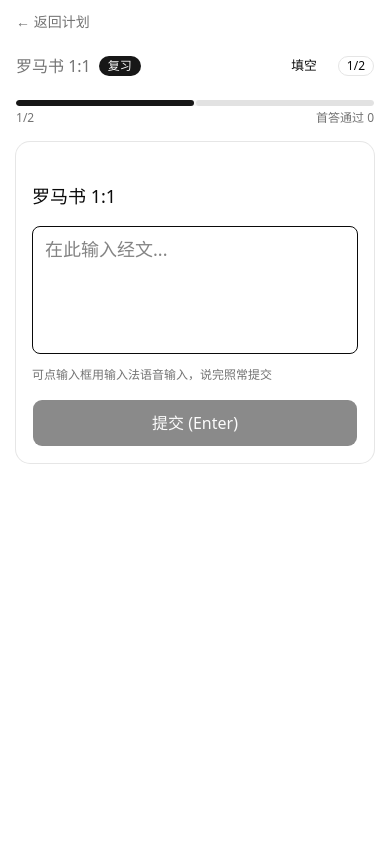
it: LearnClient 跨节状态隔离（复现：上一节的输入/比对残留到下一节） › 未通过：顶部只显示「重新练习」，点击后原地重背同一节
Type "第一节经" into the text box with placeholder "在此输入经文..." at (195, 290), box [32,226,358,354]
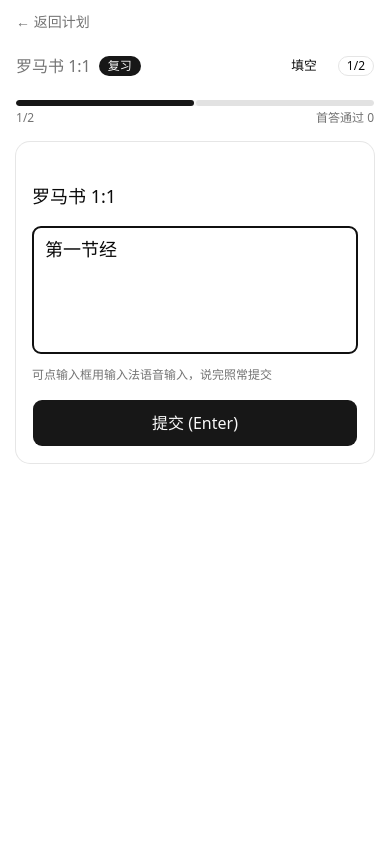
Press Enter
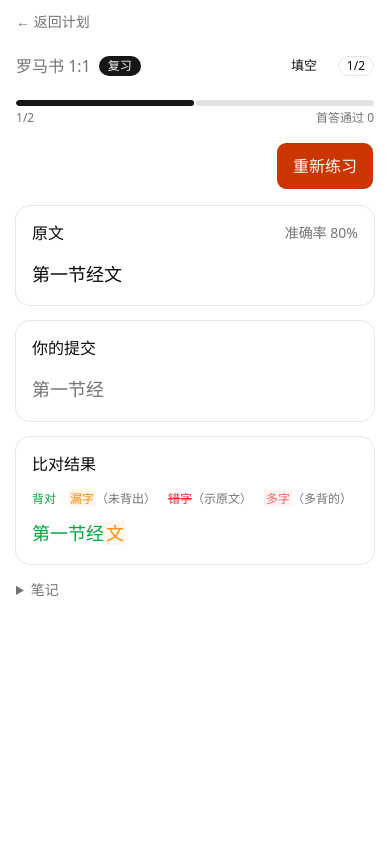
Expected: the button "下一节" is not shown
Expected: the text "准确率 80%" is shown, [285,223,358,243]
Expected: the button with aria-label "未通过，重新练习" is shown
// 重新练习 → 还是同一节，输入框清空
Click the button "重新练习" at (325, 166), box [276,142,374,190]
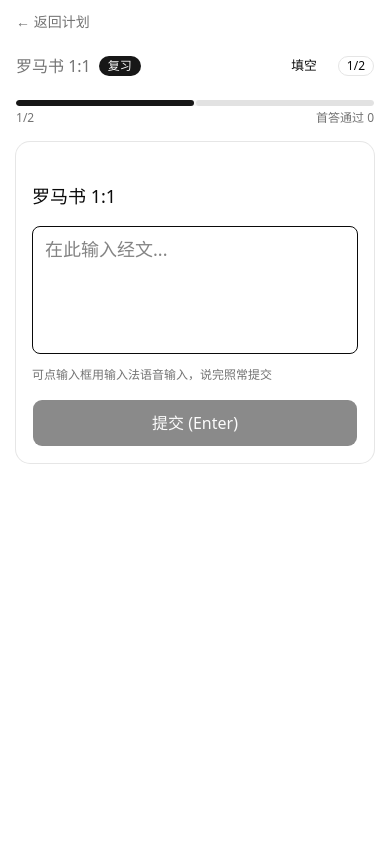
Expected: the heading "罗马书 1:1" is shown, [16,54,91,78]
Expected: the text box with placeholder "在此输入经文..." is empty
// 这次背对 → 通过，首答仍算未通过
Type "第一节经文" into the text box with placeholder "在此输入经文..." at (195, 290), box [32,226,358,354]
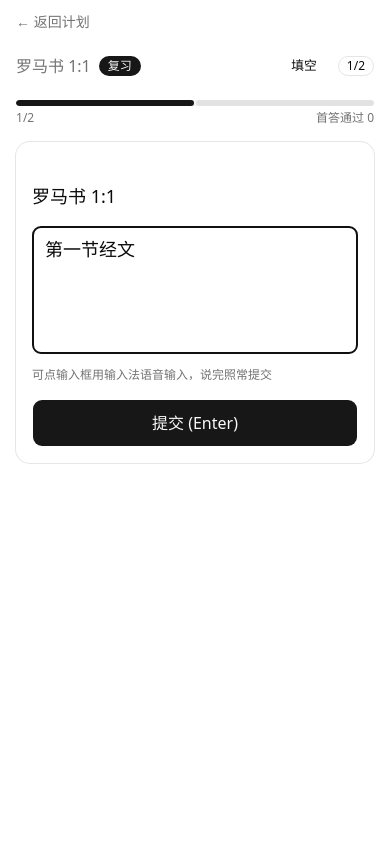
Press Enter
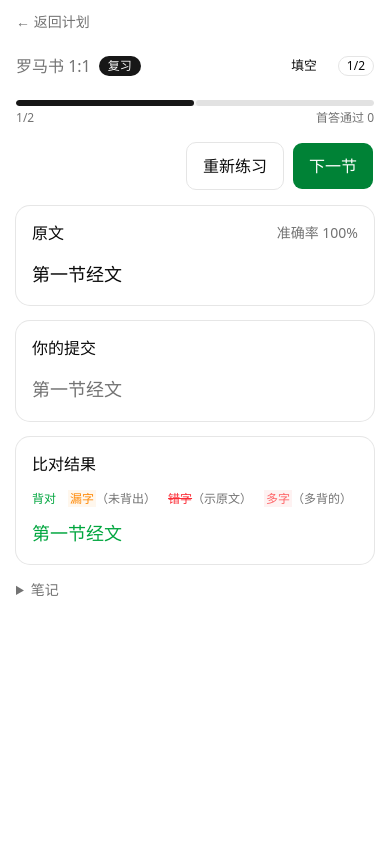
Expected: the text "首答通过 0" is shown, [316,110,374,126]
Expected: the button with aria-label "通过，下一节" is shown, [292,142,374,190]
